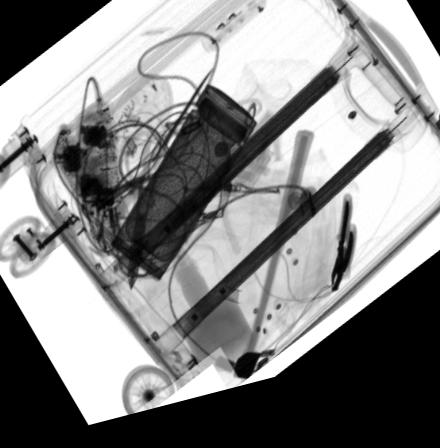Hammer: (212, 144, 314, 393)
Pliers: (329, 210, 357, 309)
Scissors: (121, 130, 186, 299)
